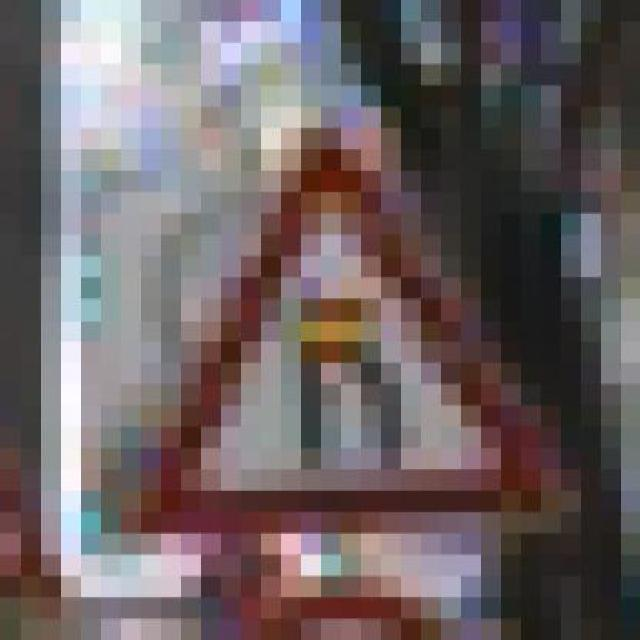-Road narrows on right: (100, 86, 600, 554)
